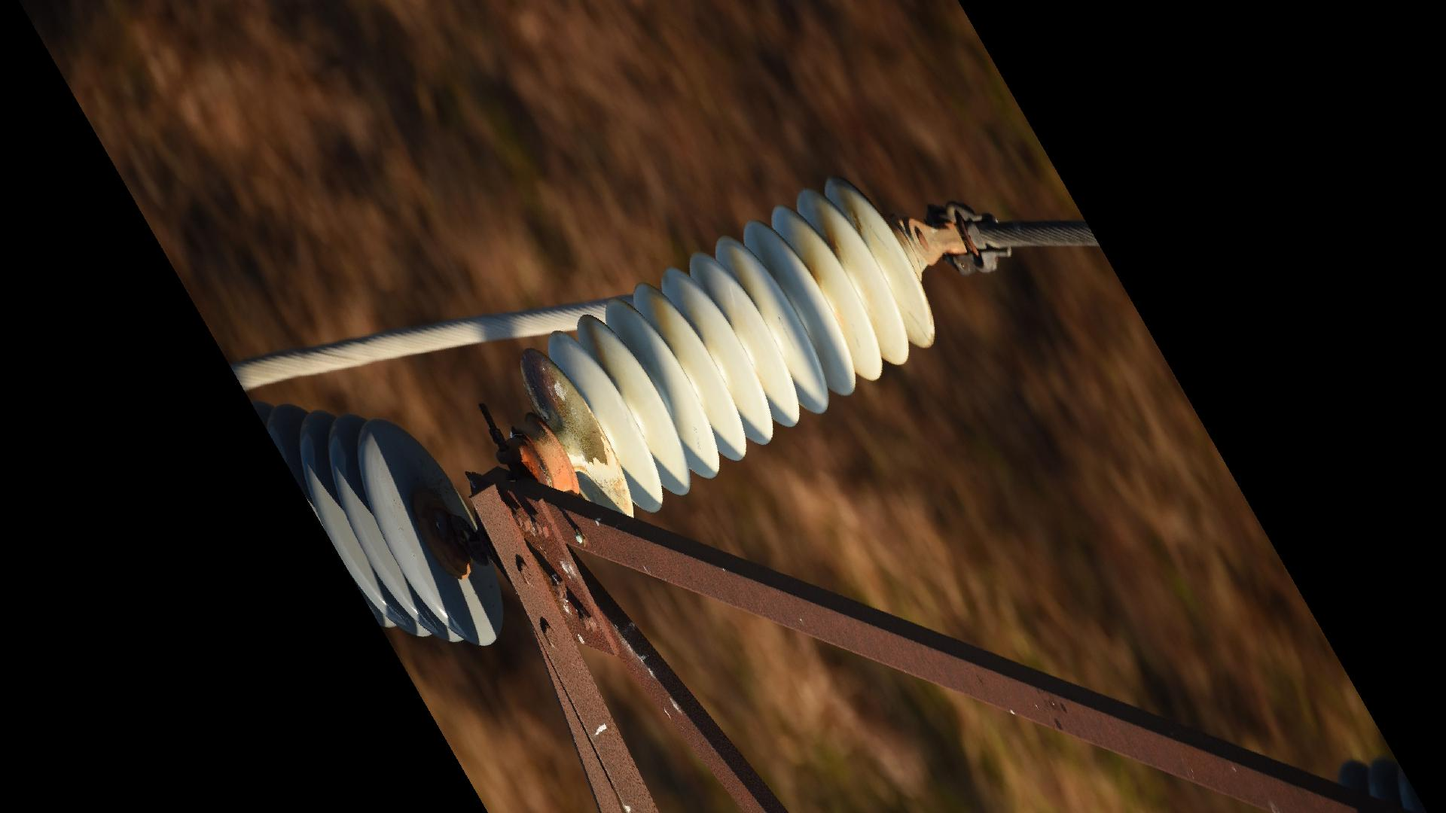insulator: (515, 170, 942, 522), (248, 397, 511, 651)
insulator_flashover: (516, 346, 611, 466)
